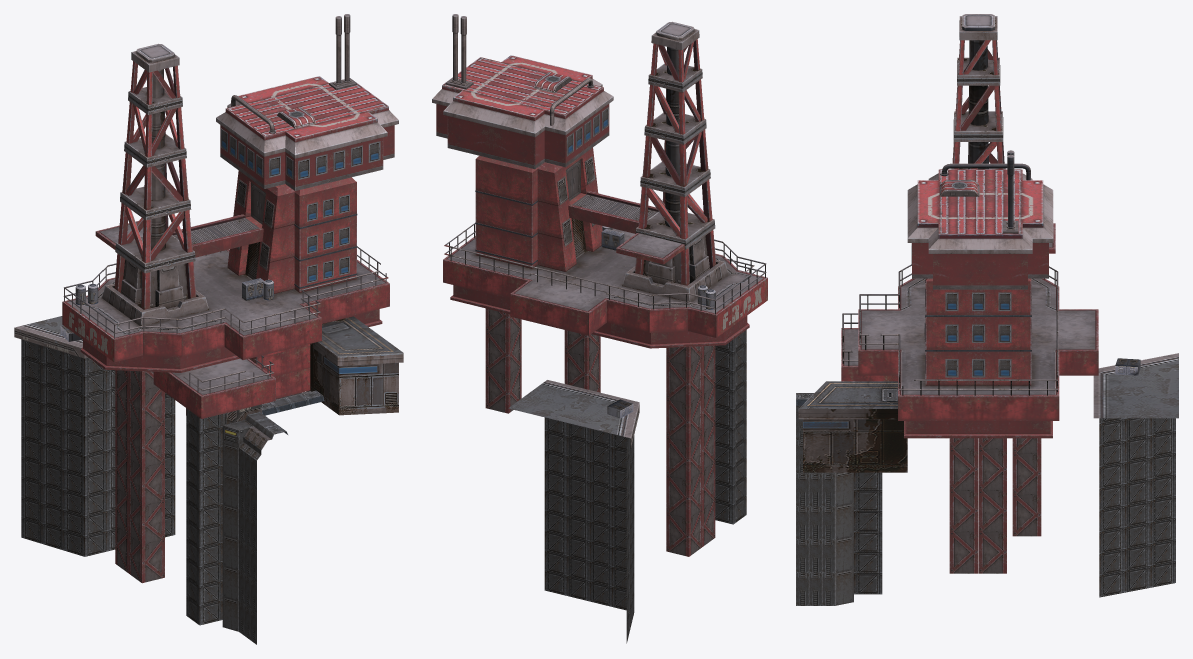
The model's file is m_dsj_jz_z_02.FBX.
3 views of the same model, side by side, from view 1: azimuth 30°, elevation 25°; view 2: azimuth 150°, elevation 25°; view 3: azimuth 270°, elevation 25° (orthographic). The views are drawn at different scales.
Visible parts, largest first — view 1: m_dsj_jz_z_02, m_dsj_jz_z_03; view 2: m_dsj_jz_z_02, m_dsj_jz_z_03; view 3: m_dsj_jz_z_02, m_dsj_jz_z_03.
Part boxes in pixels (<box>): m_dsj_jz_z_02: <box>14,14,403,644</box>; m_dsj_jz_z_03: <box>146,69,165,250</box>; m_dsj_jz_z_02: <box>432,14,767,643</box>; m_dsj_jz_z_03: <box>665,47,683,227</box>; m_dsj_jz_z_02: <box>796,14,1178,605</box>; m_dsj_jz_z_03: <box>968,40,988,169</box>.
Bounding box in the file's own units: 1094 × 1973 × 1171.
